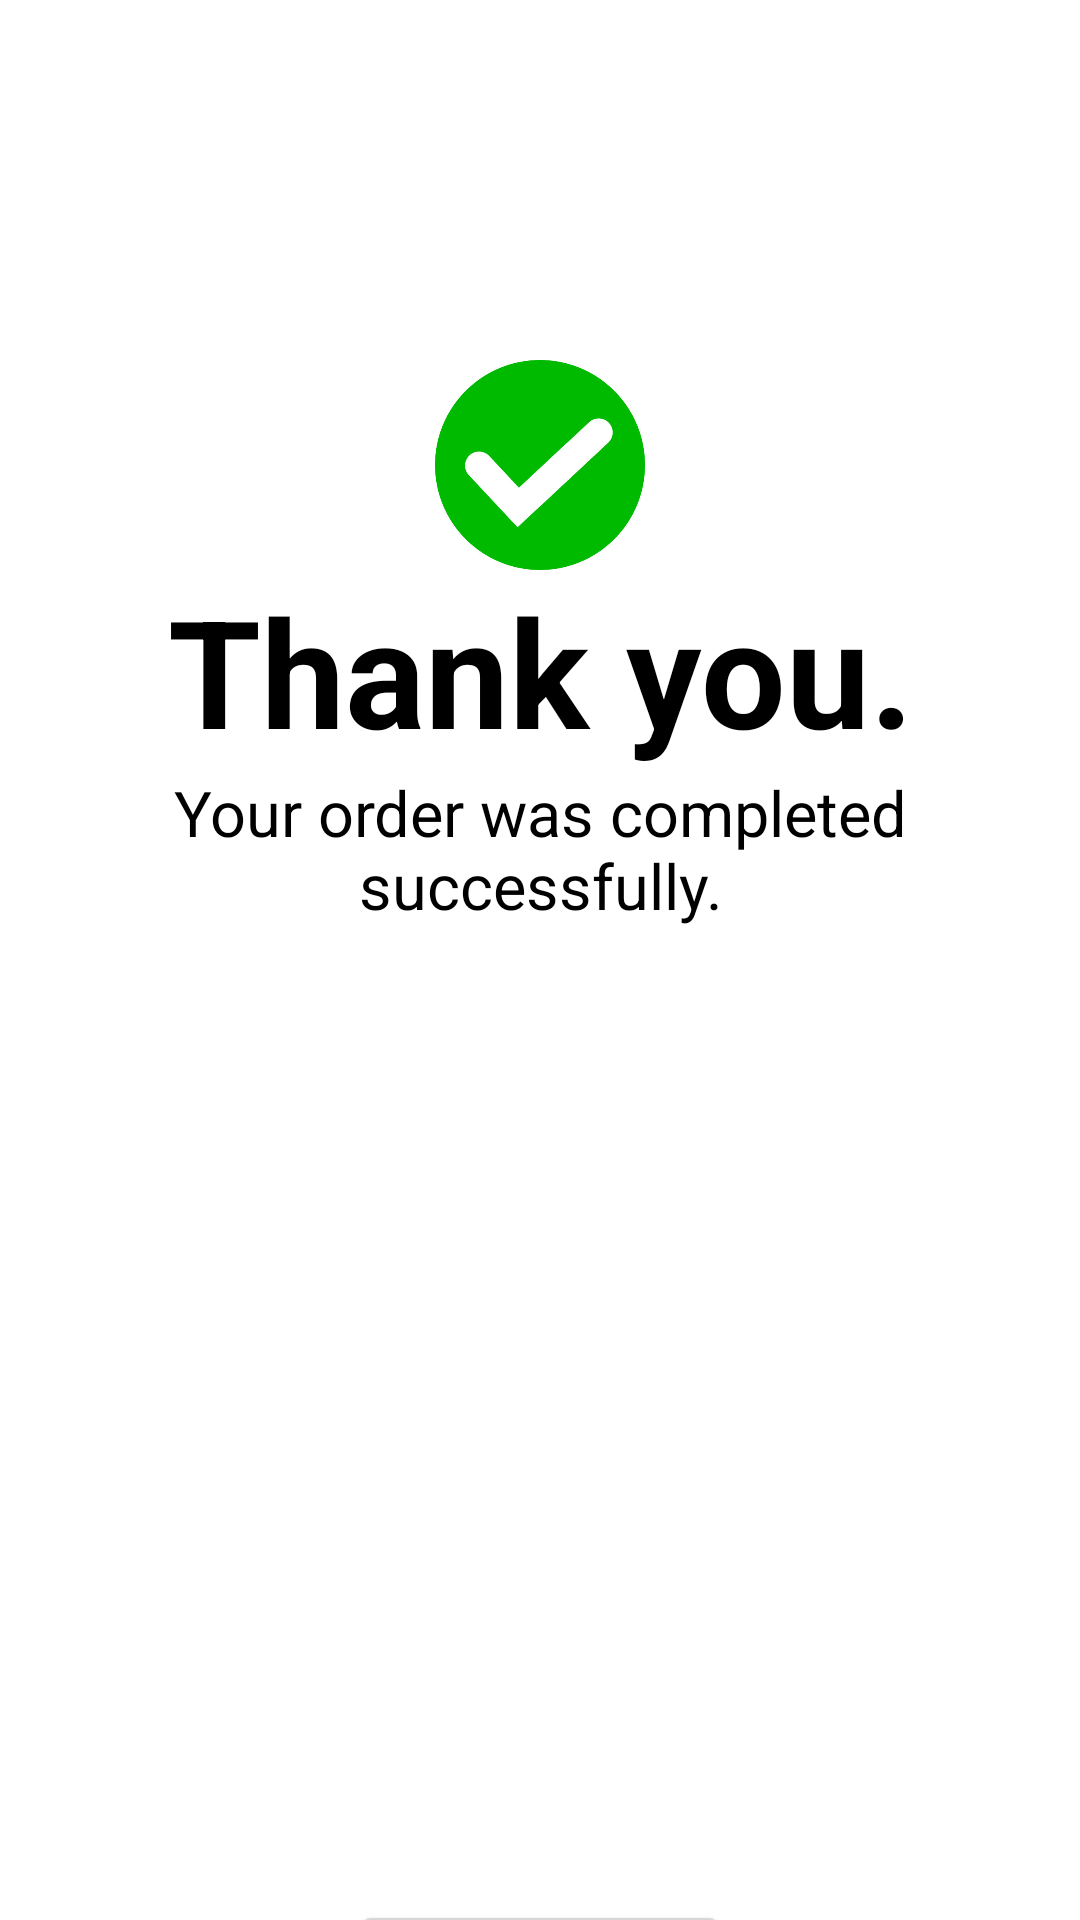

Named icons in this screenshot (1080×1920) and their bounding boxes, [left=x1, top=y1, right=x2, bottom=y2]:
check: [left=435, top=360, right=645, bottom=570]
